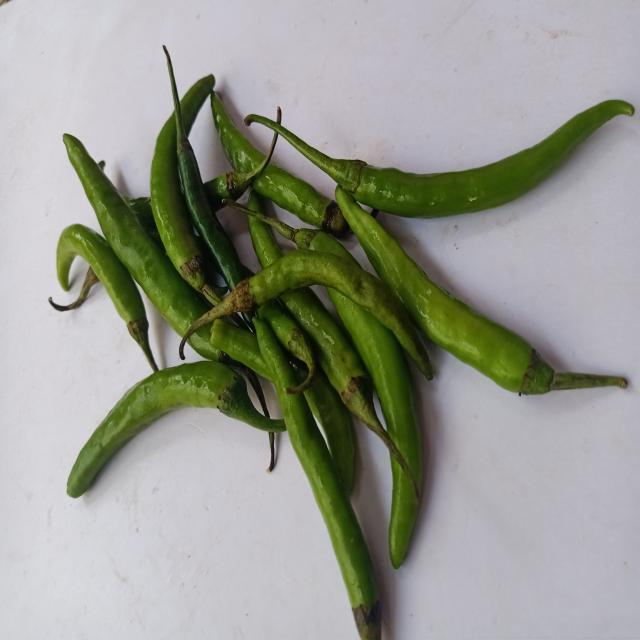Green Chilly: (336, 189, 629, 395), (245, 99, 635, 218), (253, 317, 381, 639), (179, 249, 433, 379), (66, 361, 286, 498), (62, 133, 208, 337), (163, 45, 245, 291), (279, 287, 390, 441), (150, 112, 217, 304), (245, 113, 368, 193), (56, 223, 145, 324), (180, 74, 215, 132), (189, 327, 218, 361)
